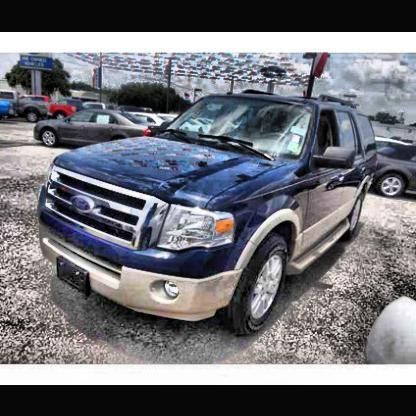Ford Expedition EL SUV 2009: (40, 95, 383, 332)
